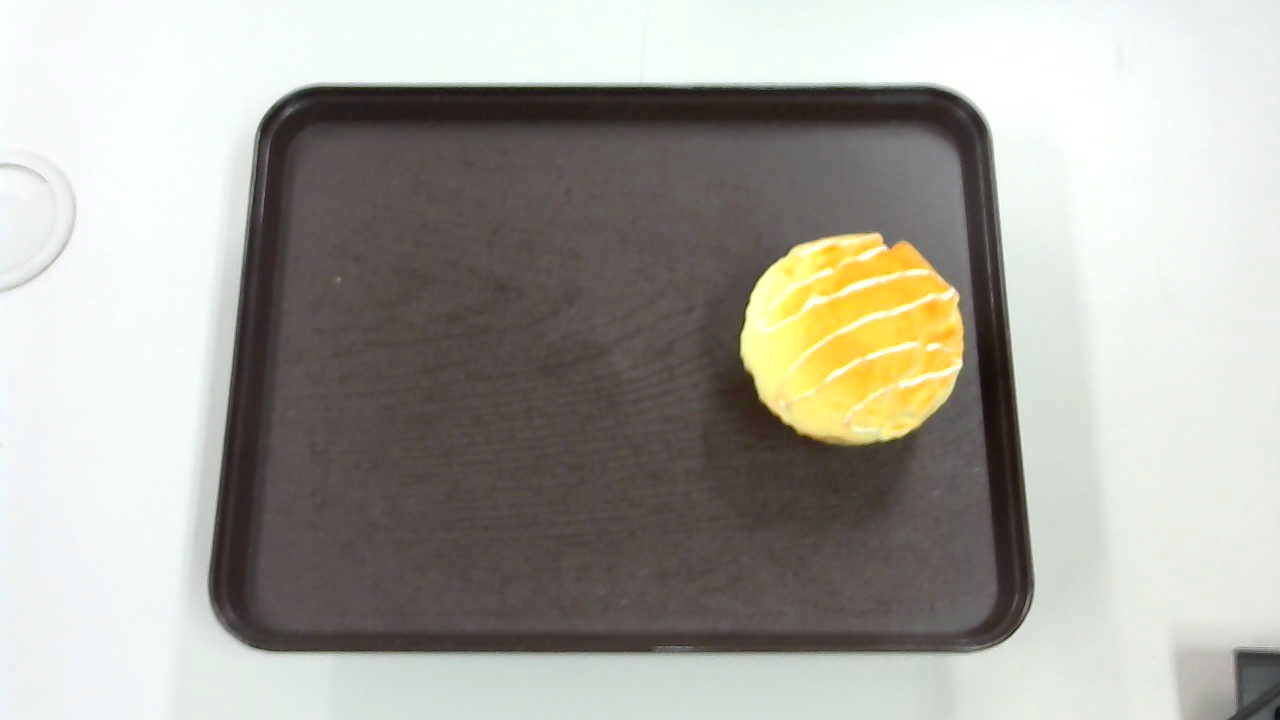cupcake: (739, 231, 965, 447)
